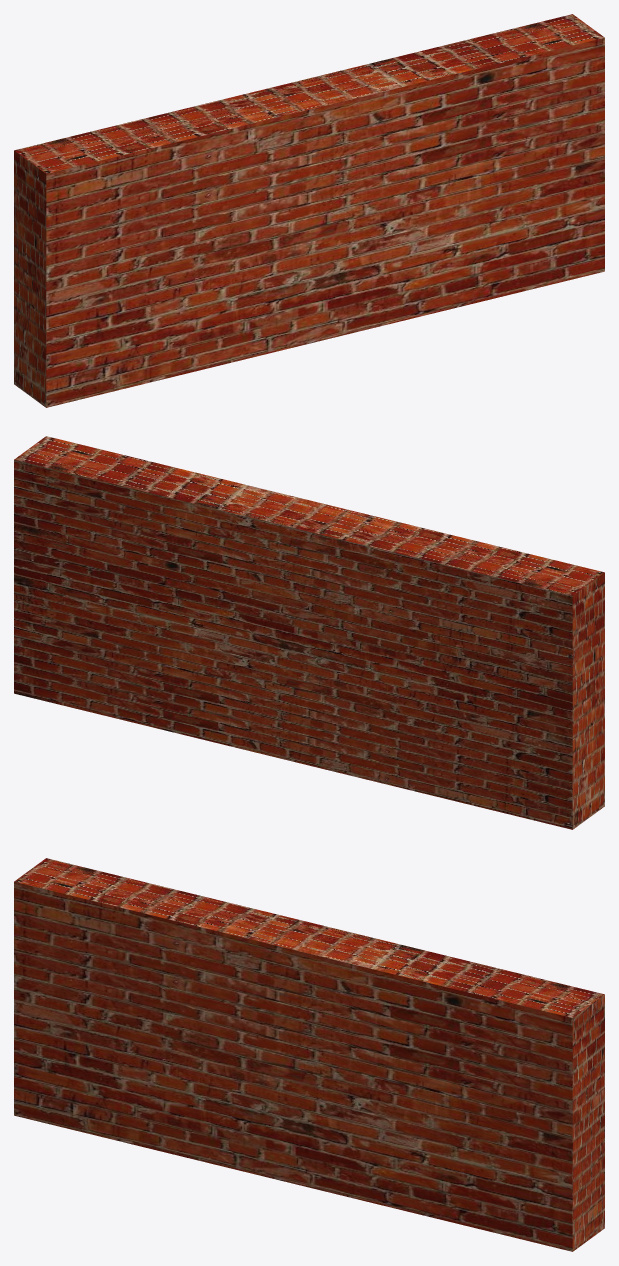
The model's file is wall.dae.
The picture shows the model from 3 angles, top to bottom: view 1: azimuth 30°, elevation 25°; view 2: azimuth 150°, elevation 25°; view 3: azimuth 330°, elevation 25°; orthographic projection.
Visible parts, largest first — view 1: Cube; view 2: Cube; view 3: Cube.
Part boxes in pixels (x1,y1,x2,y2): Cube: [14, 14, 604, 407]; Cube: [14, 436, 604, 829]; Cube: [14, 858, 604, 1251].
Bounding box in the file's own units: 5 × 0.5 × 2.
Materials: 1 (1 with a texture image).
